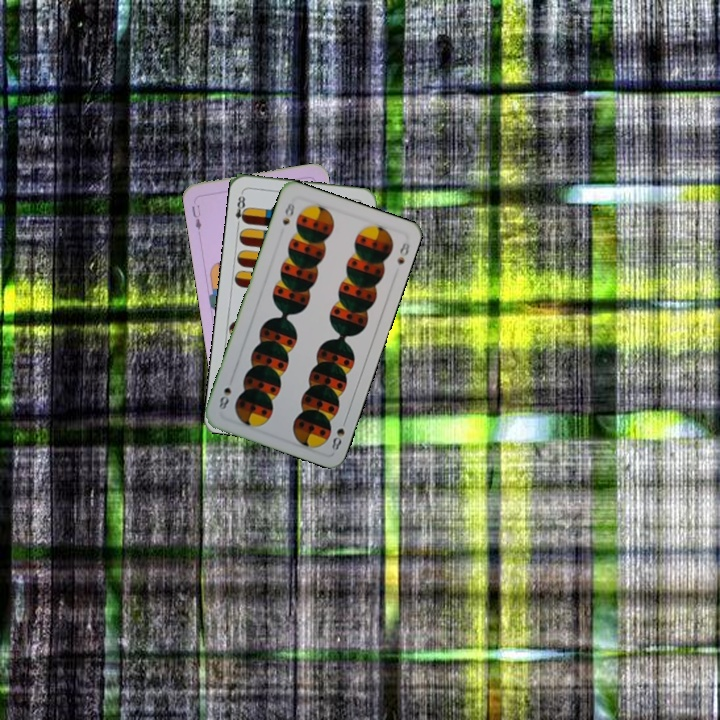E8: (231, 189, 250, 229)
EU: (188, 201, 204, 233)
S8: (327, 414, 350, 453), (278, 199, 298, 228)
